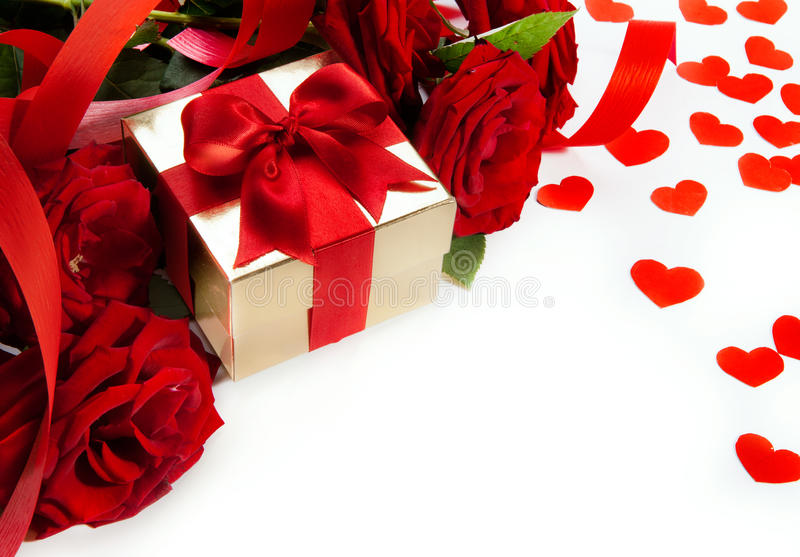RedRose: (0, 292, 219, 532), (405, 46, 571, 243), (32, 119, 166, 314), (343, 0, 454, 95), (506, 0, 592, 110)
